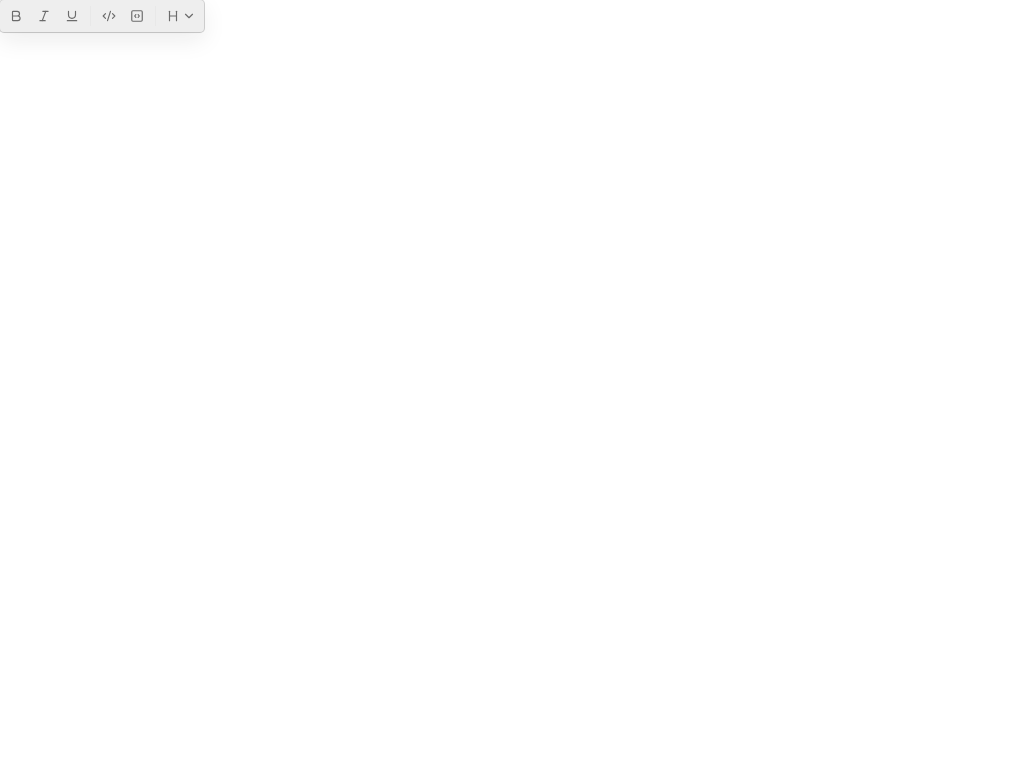
Test: FloatingToolbar.svelte: dropdown заголовков (MDP-18) › pointerdown вне dropdown закрывает меню
Click the button named "Уровень заголовка": (181, 16) [162,4,200,28]
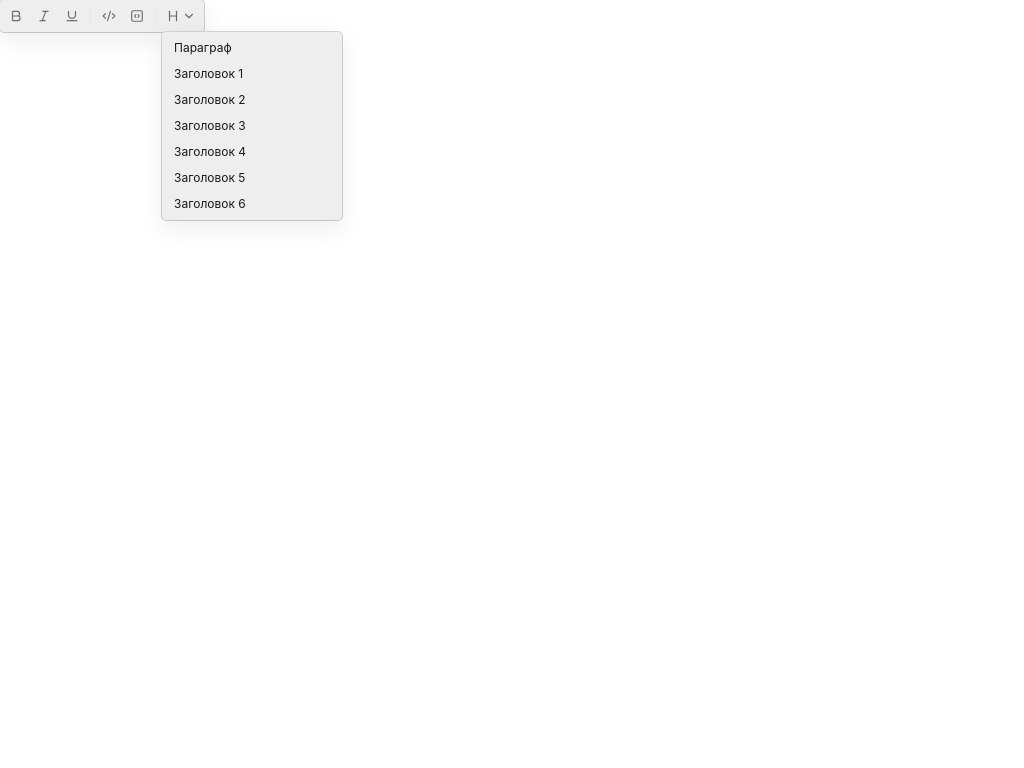
Expected: the menu is shown, [162,32,342,220]
Press the mouse on the element that starts with "Параграф": (512, 384) [0,0,1023,767]
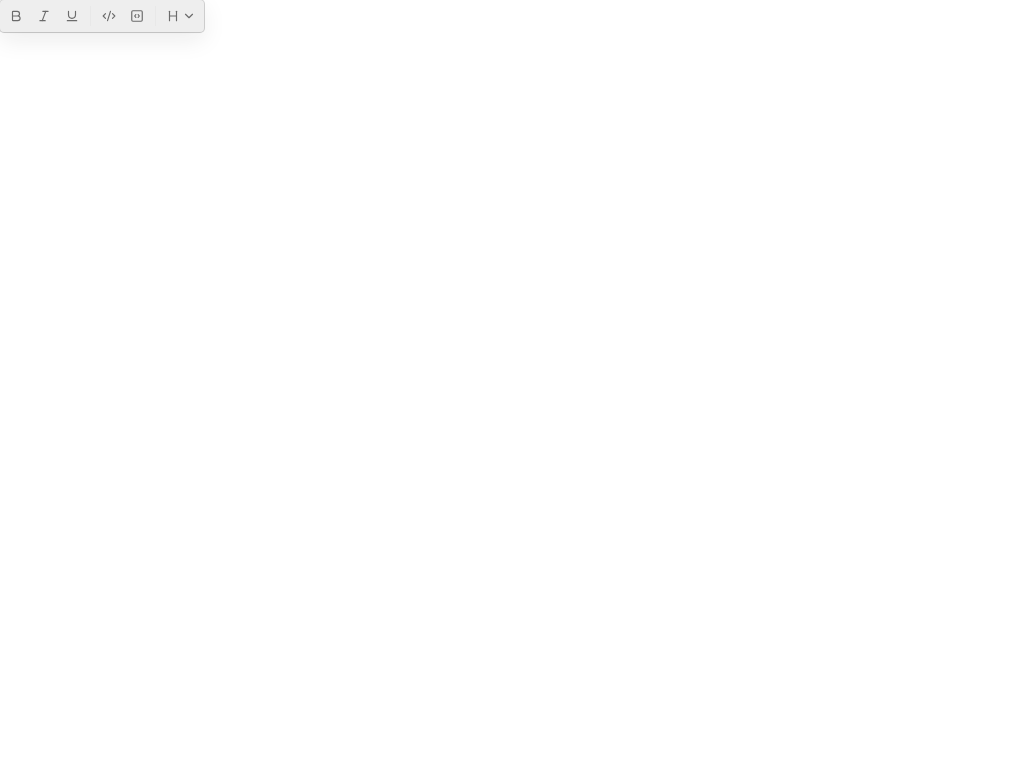
Expected: the menu is gone
